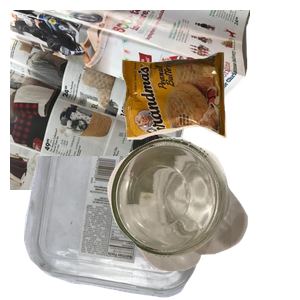glass: (105, 135, 300, 300)
paper: (10, 10, 250, 190)
plastic: (21, 156, 226, 300)
trash: (120, 50, 300, 182)
